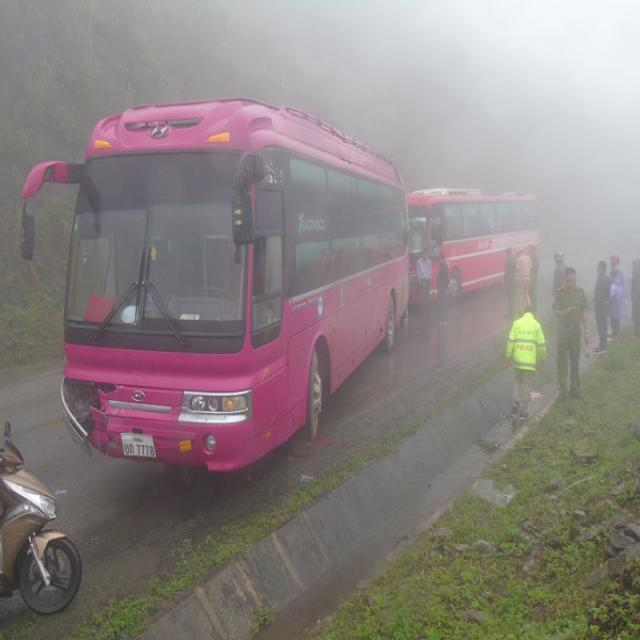Bus: (17, 92, 411, 470), (376, 182, 545, 310)
Motobike: (0, 419, 81, 614)
